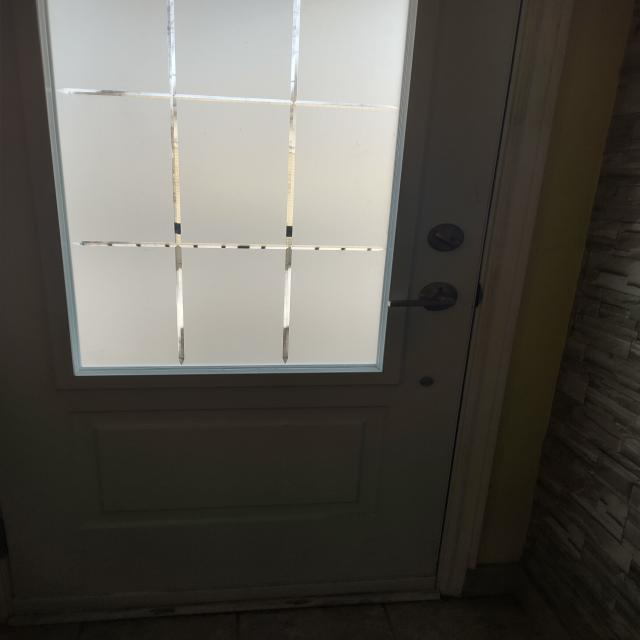door-handle: (389, 282, 458, 311)
